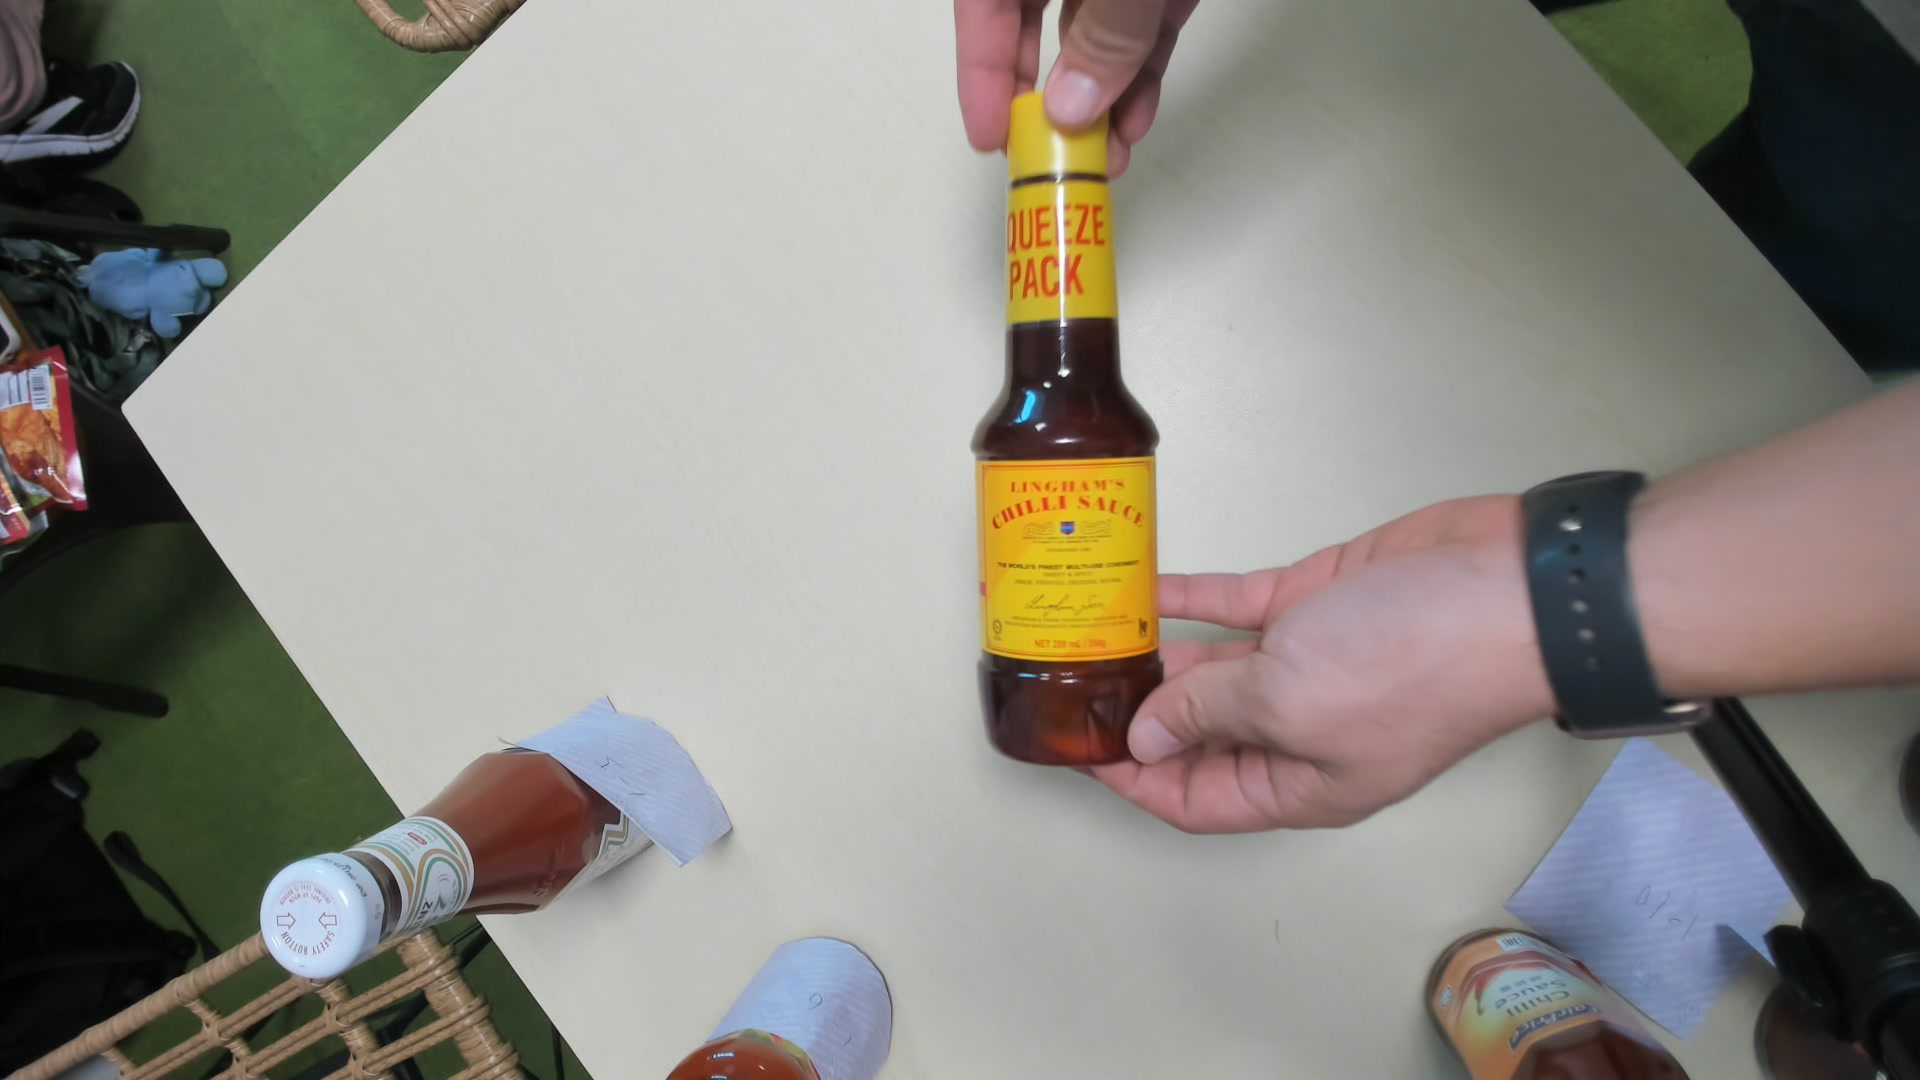KetchupChillSauce_300-399g_Halal_NonHealthy: (980, 94, 1168, 771)
